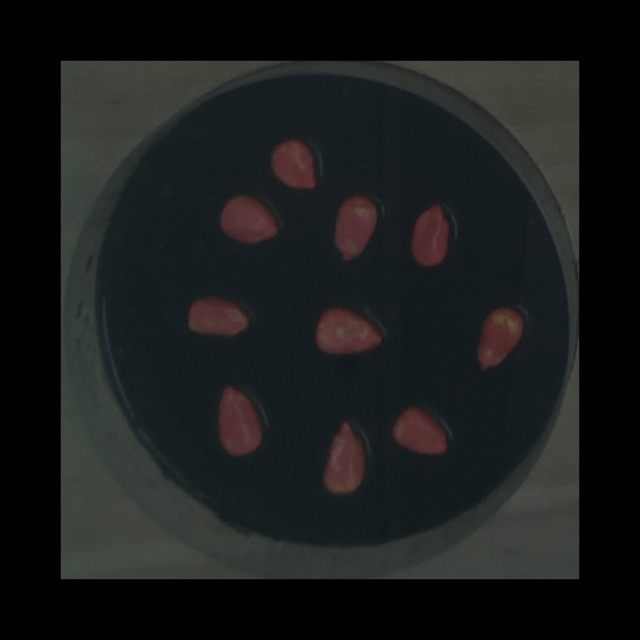Zea mays: (311, 300, 387, 360), (214, 189, 287, 251), (317, 417, 370, 499), (213, 381, 267, 460), (472, 302, 528, 376), (328, 190, 382, 266), (386, 403, 452, 462), (406, 197, 455, 273), (182, 291, 255, 342), (264, 133, 321, 195)
